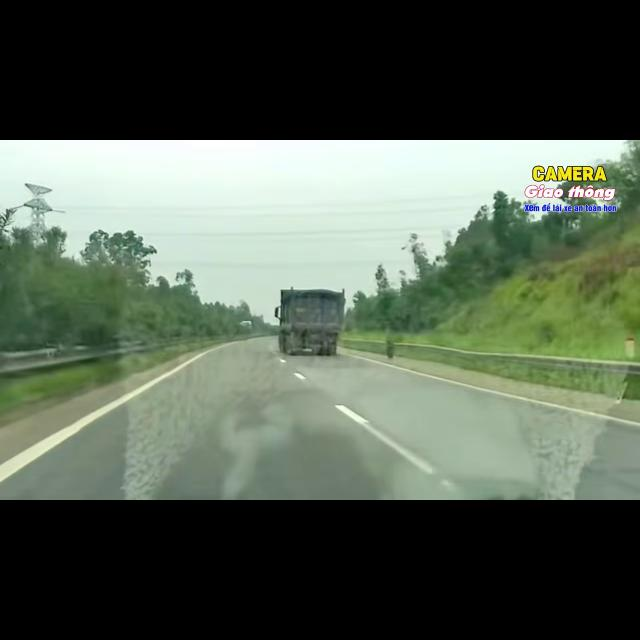truck: (275, 287, 345, 355)
